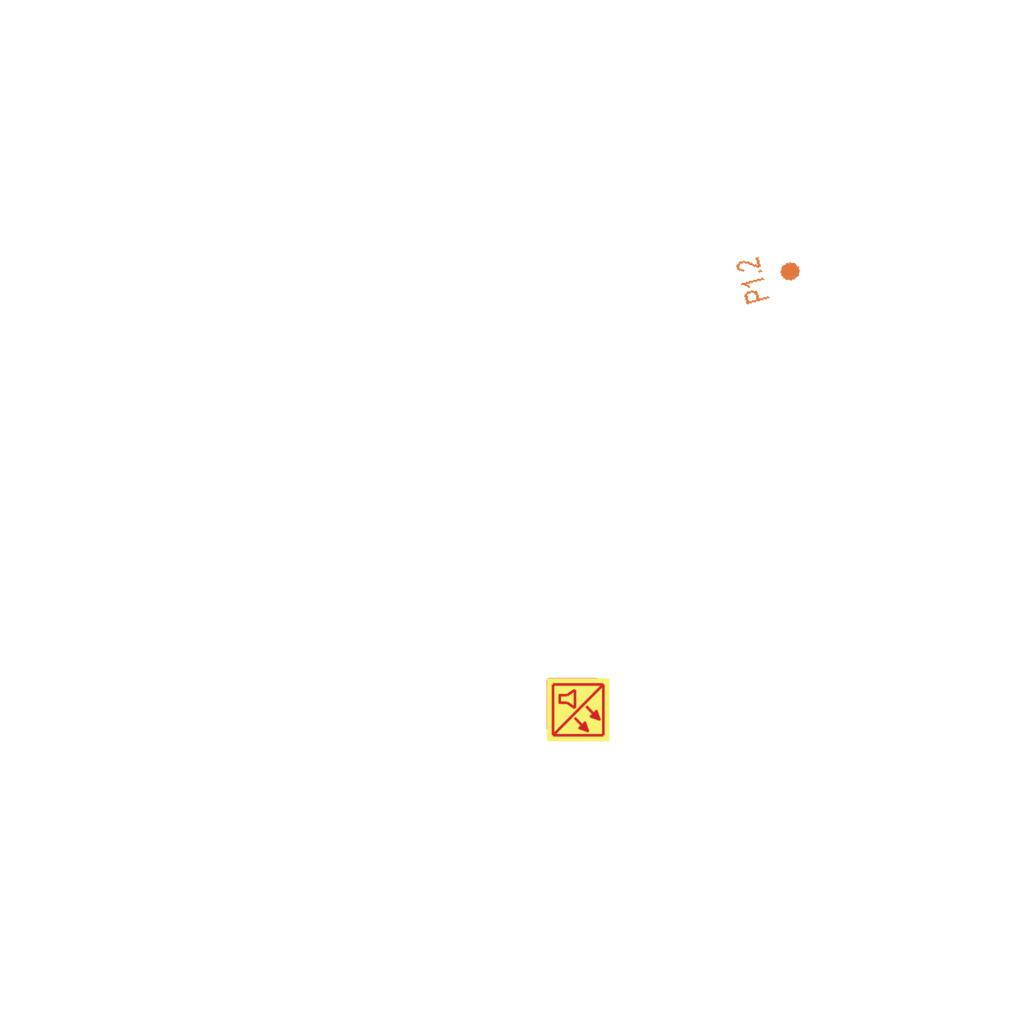Downlight_LED_Einbauleuchten_Flur: (733, 245, 807, 307)
OKW_Multisensormelder_(Kombination_optischer_Rauch-Kahlenmonoxid_Waerme-Melder): (545, 677, 611, 743)
